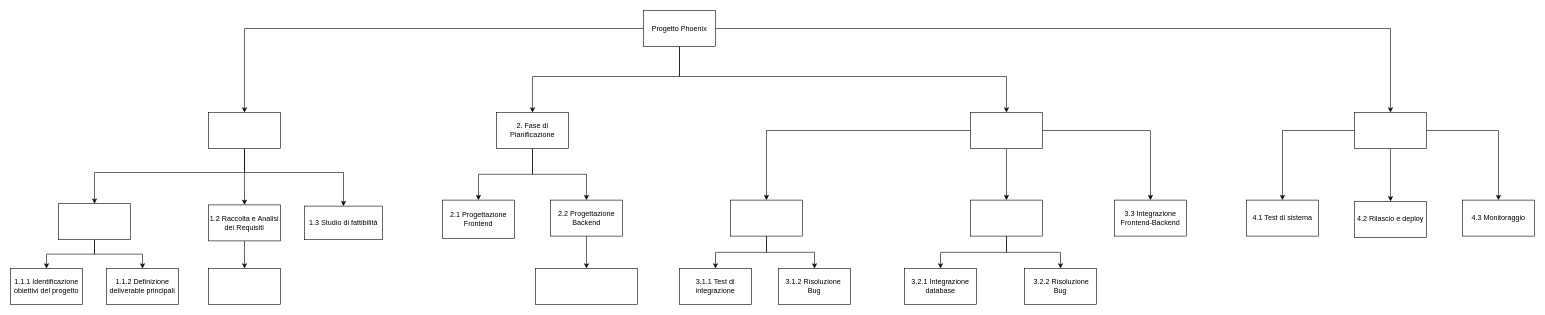
The diagram is 1545 pixels wide and 315 high, and some of its shapes have lost their labels. Here are the shapes that lost their labels. From the top down, the centre of each, then its label:
point (244, 130): 1. Fase di inizio
point (1006, 130): 3. Fase di Esecuzione
point (1390, 130): 4. Fase di Chiusura
point (94, 221): 1.1 Scopo del Sistema
point (766, 218): 3.1 Sviluppo Frontend
point (1006, 218): 3.2 Sviluppo Backend
point (244, 286): 1.2.1 Identificazione stakeholder
point (586, 286): 2.2.1 Scelta DBMS e linguaggio di programmazione
